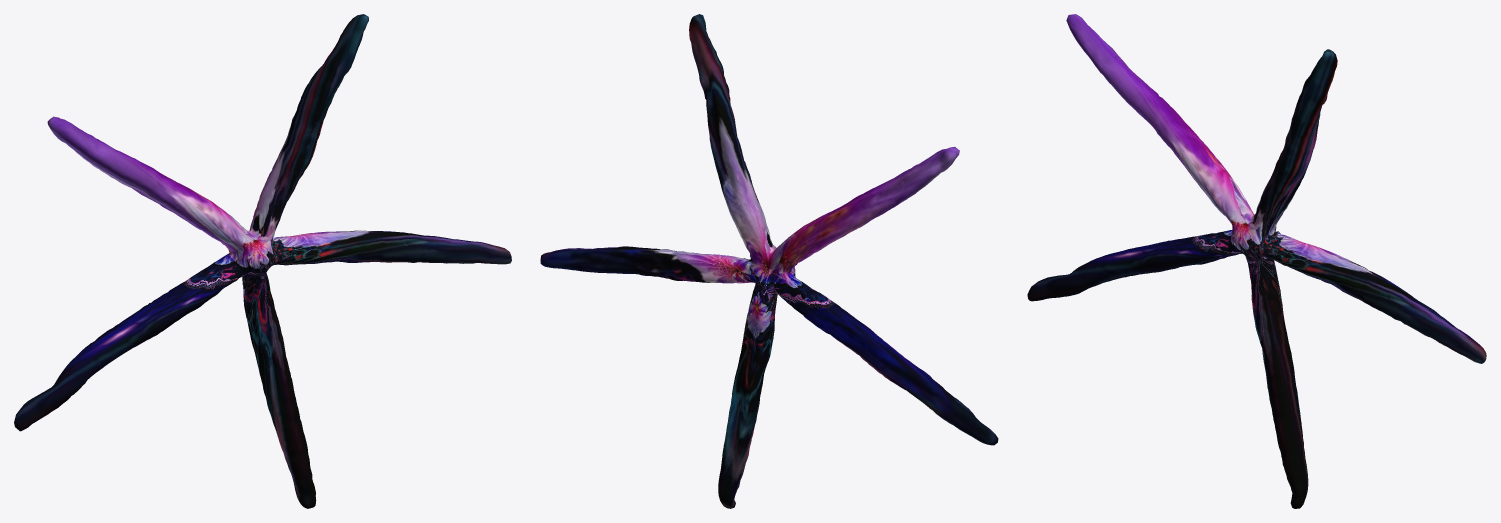
Rendered from tds_blue-sea-star.glb.
3 views of the same model, side by side, from view 1: azimuth 30°, elevation 25°; view 2: azimuth 150°, elevation 25°; view 3: azimuth 330°, elevation 25° (orthographic). The views are drawn at different scales.
Visible parts, largest first — view 1: A; view 2: A; view 3: A.
Boxes of the visible parts, x1,y1,x2,y2 form: A: (14,14,511,508); A: (540,14,998,508); A: (1027,14,1486,508).
Size of the model in its own units: 2 by 1.94 by 0.2432.
1 material, 1 textured.
